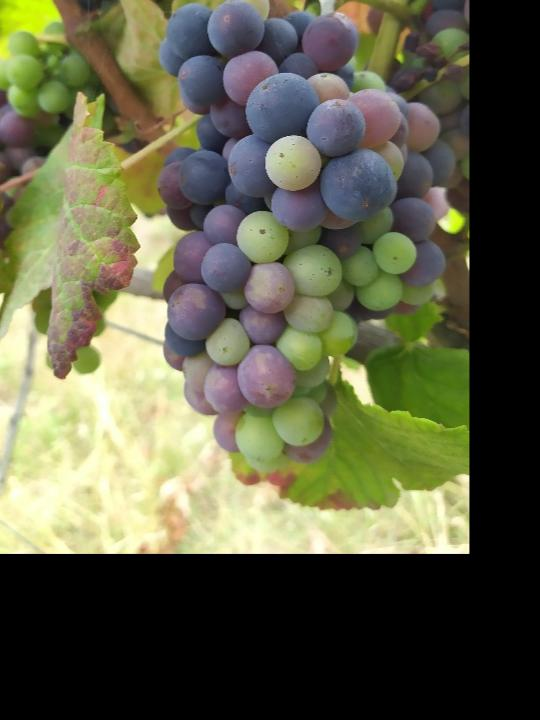grape: (154, 0, 452, 473)
